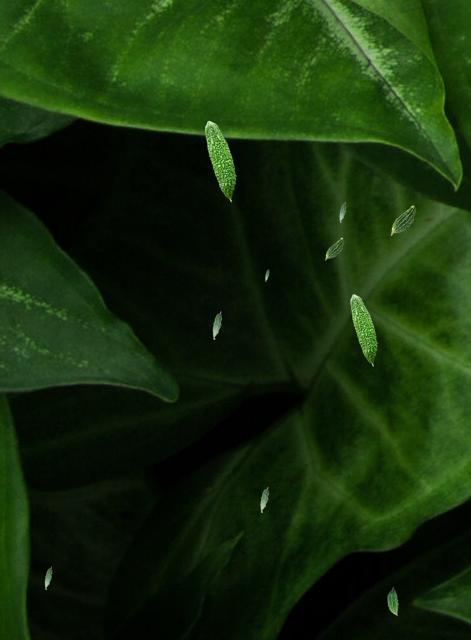ampalaya: (204, 120, 237, 202), (350, 294, 378, 366), (390, 205, 416, 235), (324, 237, 344, 260), (386, 586, 399, 615), (212, 311, 222, 340), (260, 486, 269, 513), (44, 566, 52, 590), (339, 201, 346, 223), (265, 268, 269, 282)
